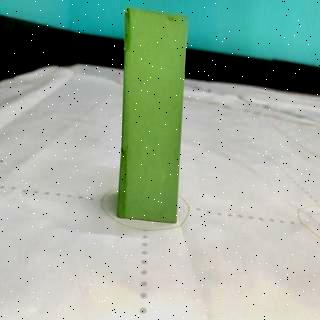greenbox: (116, 7, 193, 223)
